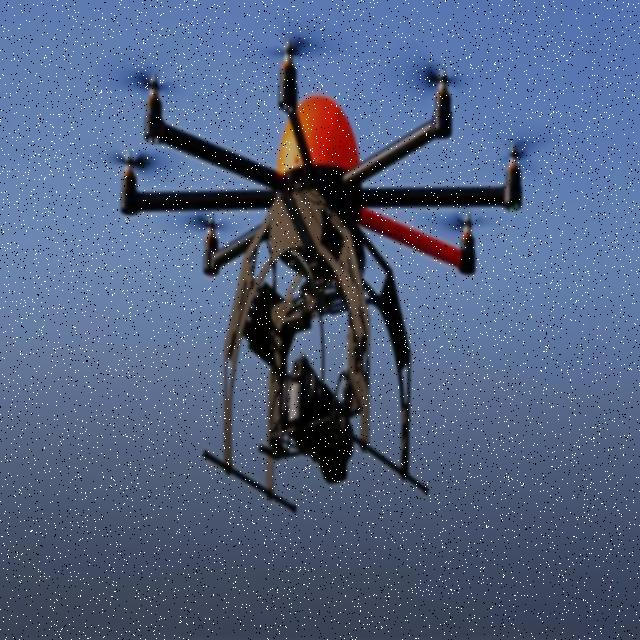UAV: (118, 35, 525, 518)
